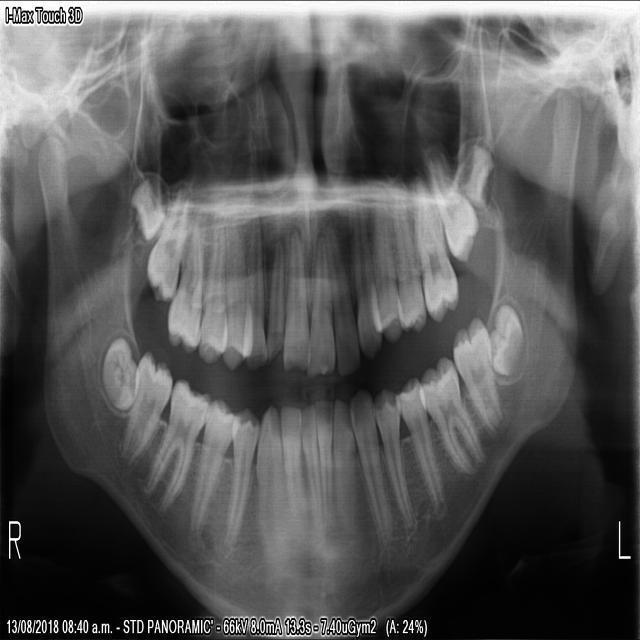LCD: (348, 382, 393, 543)
LCU: (349, 200, 382, 360)
LID: (332, 395, 354, 530), (313, 395, 335, 524)
LIU: (325, 220, 360, 379), (305, 232, 335, 376)
LMD: (419, 351, 486, 479), (450, 310, 504, 438), (489, 297, 525, 379)
LMU: (412, 185, 458, 325), (427, 160, 479, 266), (458, 140, 494, 212)
LPMD: (399, 373, 444, 506), (374, 383, 415, 528)
LPMU: (392, 198, 426, 335), (374, 200, 403, 345)
RCD: (254, 403, 286, 549)
RCU: (240, 225, 264, 373)
RID: (278, 401, 308, 519), (299, 402, 320, 523)
RIU: (280, 225, 309, 373), (263, 235, 282, 366)
RMD: (140, 377, 210, 517), (115, 346, 171, 469), (97, 332, 135, 411)
RMU: (165, 216, 202, 354), (144, 197, 189, 302), (125, 177, 165, 243)
RPMD: (186, 394, 231, 533), (221, 405, 258, 544)
RPMU: (196, 224, 225, 364), (220, 221, 244, 372)
